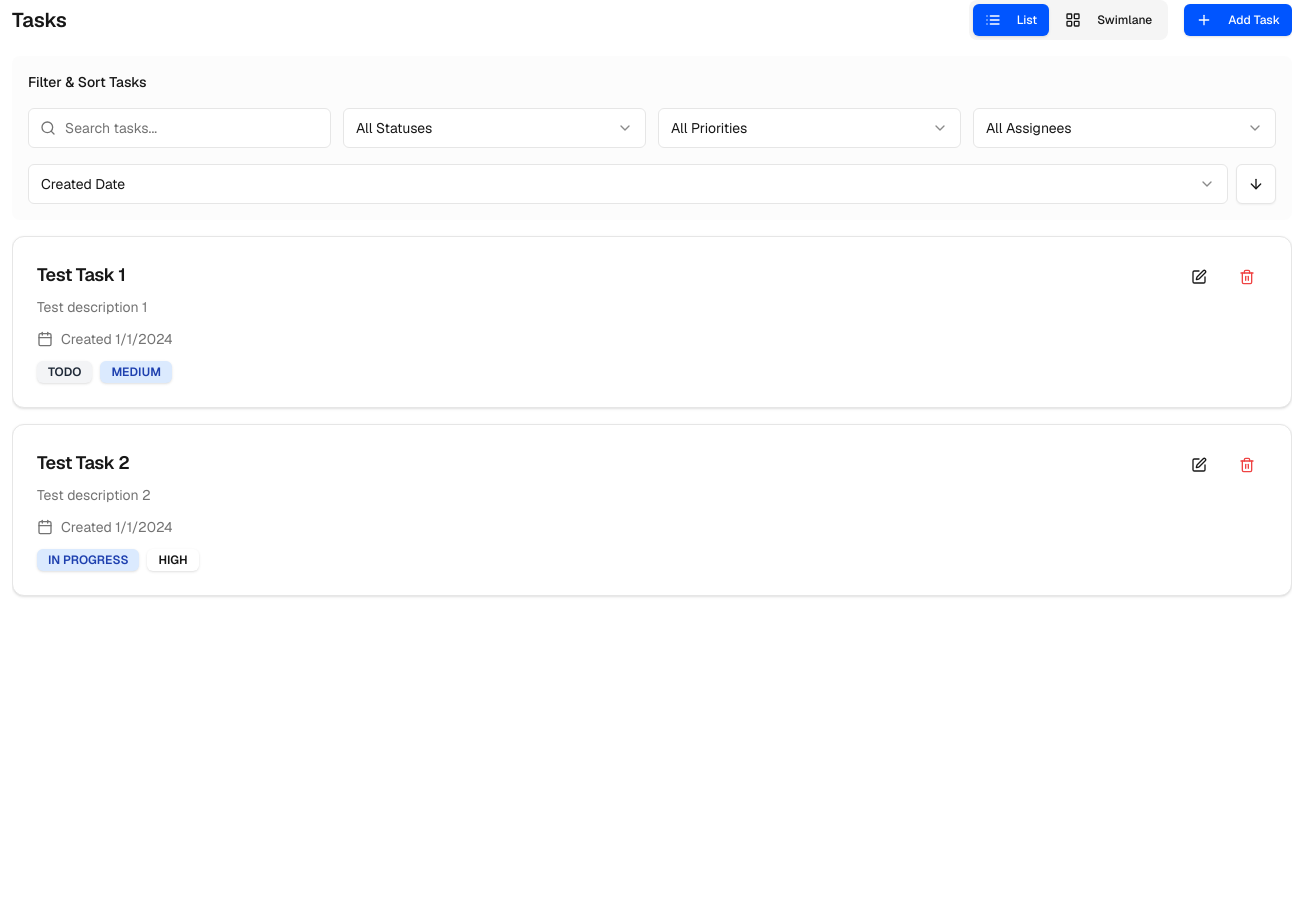
Scenario: ProjectTasksView › switches to swimlane view when toggle is clicked
Click the swimlane button
What coordinates should you click on to do the following:
click the button "Swimlane"
I would click on:
 (1109, 20)
Its box is [1053,4,1164,36].
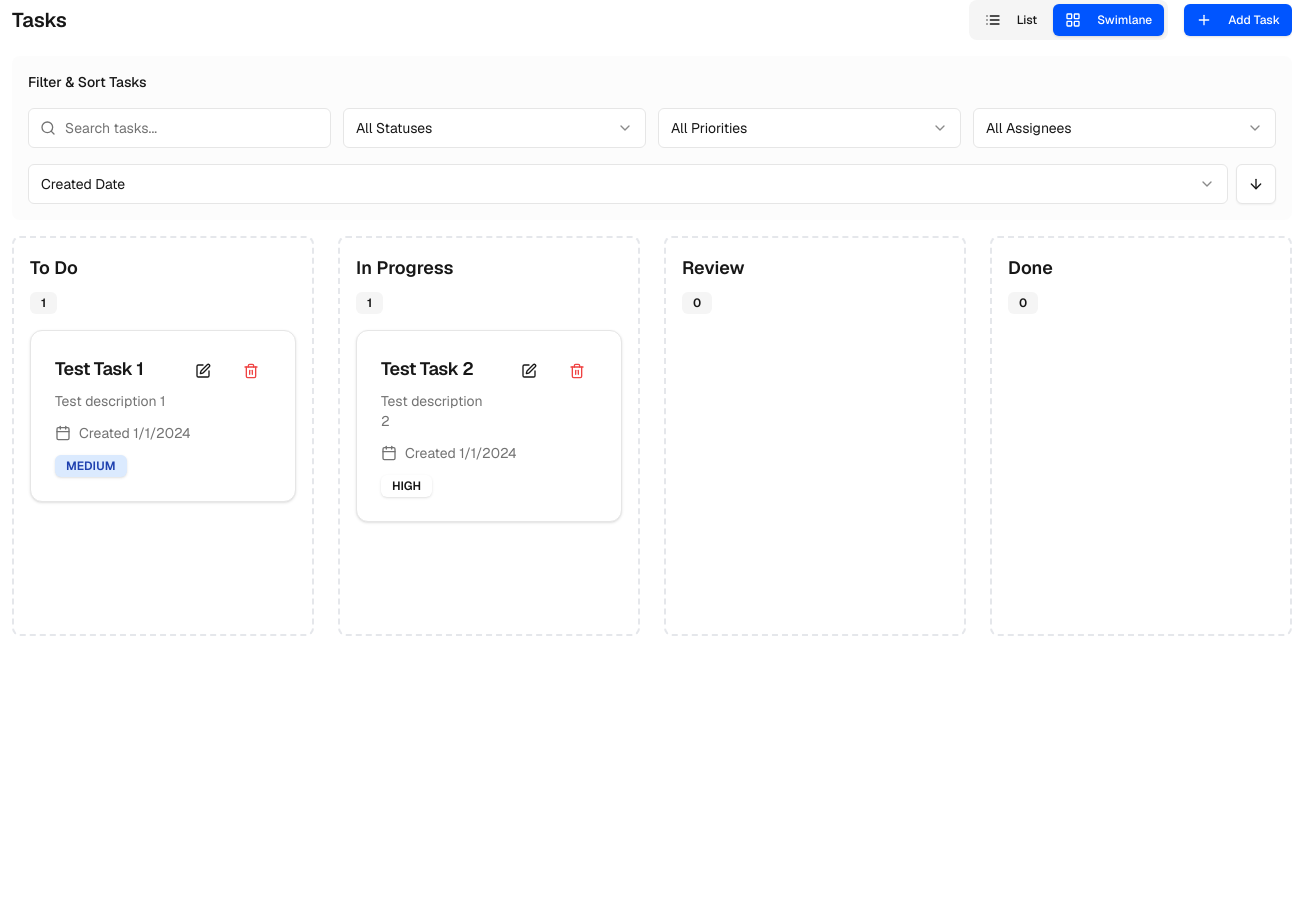
Expected: the heading "Tasks" is shown, [12,6,67,34]
Result: the heading "To Do" is shown at [30,256,78,279]
